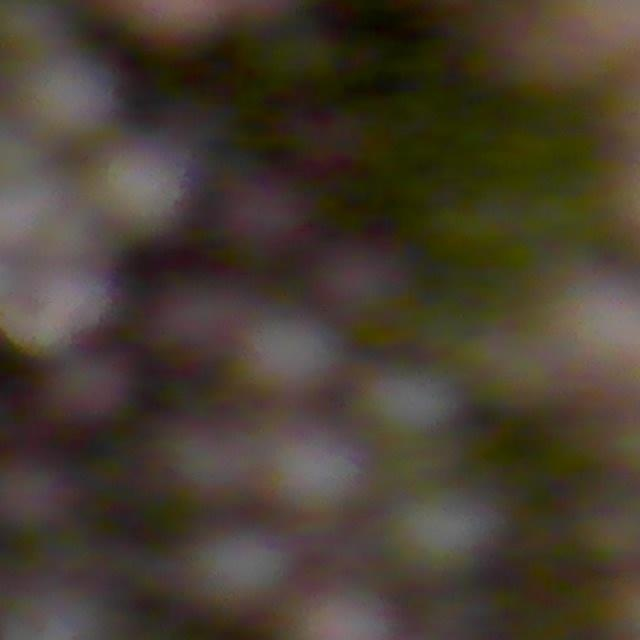SeaGrape: (89, 137, 196, 246), (390, 482, 503, 583), (149, 280, 262, 371), (266, 423, 369, 521), (190, 524, 290, 618), (24, 51, 122, 143), (336, 237, 422, 341), (245, 312, 344, 401), (229, 182, 318, 275), (363, 361, 461, 444), (56, 351, 137, 427), (0, 457, 74, 532)
